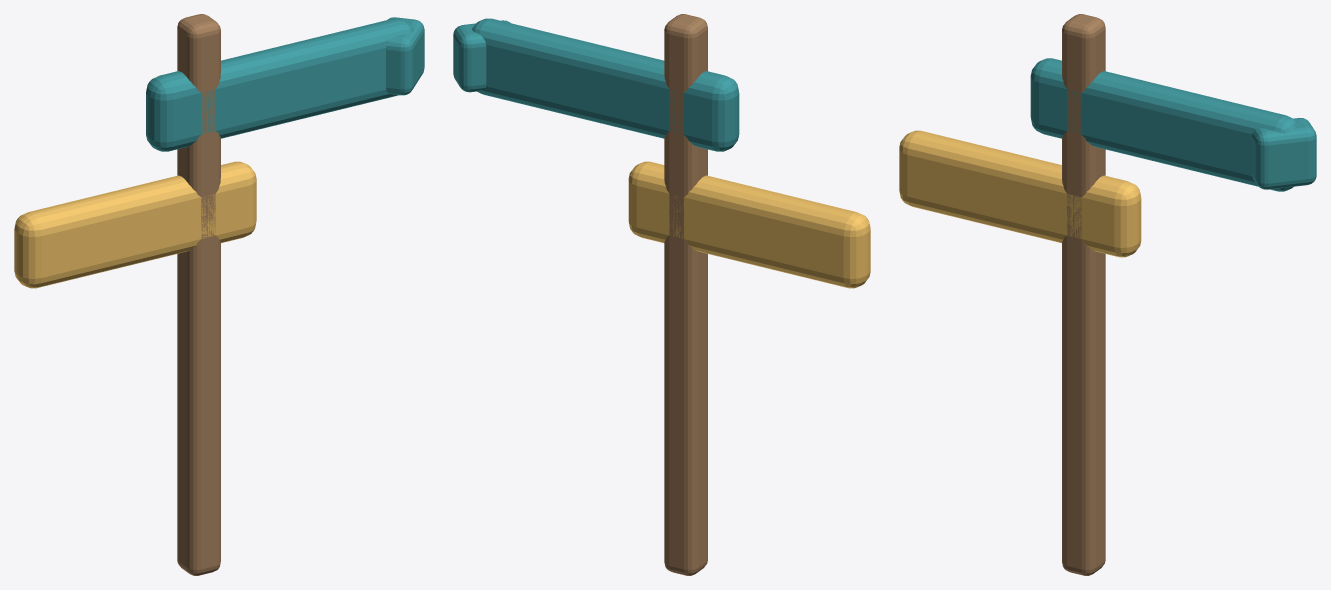
3 views of the same model, side by side, from view 1: azimuth 30°, elevation 25°; view 2: azimuth 150°, elevation 25°; view 3: azimuth 330°, elevation 25° (orthographic).
Parts seen in each view (by area): view 1: LOD0_TRAIL_SIGNPOST_Pole, LOD0_TRAIL_SIGNPOST_ArrowA, LOD0_TRAIL_SIGNPOST_ArrowB, LOD0_TRAIL_SIGNPOST_Tip; view 2: LOD0_TRAIL_SIGNPOST_Pole, LOD0_TRAIL_SIGNPOST_ArrowA, LOD0_TRAIL_SIGNPOST_ArrowB, LOD0_TRAIL_SIGNPOST_Tip; view 3: LOD0_TRAIL_SIGNPOST_Pole, LOD0_TRAIL_SIGNPOST_ArrowB, LOD0_TRAIL_SIGNPOST_ArrowA, LOD0_TRAIL_SIGNPOST_Tip.
Boxes of the visible parts, x1,y1,x2,y2 form: LOD0_TRAIL_SIGNPOST_Pole: [177, 14, 220, 575]; LOD0_TRAIL_SIGNPOST_ArrowA: [146, 18, 413, 151]; LOD0_TRAIL_SIGNPOST_ArrowB: [14, 161, 256, 288]; LOD0_TRAIL_SIGNPOST_Tip: [386, 17, 424, 95]; LOD0_TRAIL_SIGNPOST_Pole: [664, 14, 707, 575]; LOD0_TRAIL_SIGNPOST_ArrowA: [472, 18, 739, 151]; LOD0_TRAIL_SIGNPOST_ArrowB: [628, 161, 870, 288]; LOD0_TRAIL_SIGNPOST_Tip: [453, 20, 510, 92]; LOD0_TRAIL_SIGNPOST_Pole: [1062, 14, 1105, 575]; LOD0_TRAIL_SIGNPOST_ArrowB: [899, 130, 1141, 257]; LOD0_TRAIL_SIGNPOST_ArrowA: [1030, 58, 1297, 191]; LOD0_TRAIL_SIGNPOST_Tip: [1252, 118, 1316, 189].
Size of what is drawn, in the model's own units: 2.26 by 2.9 by 0.3121.
